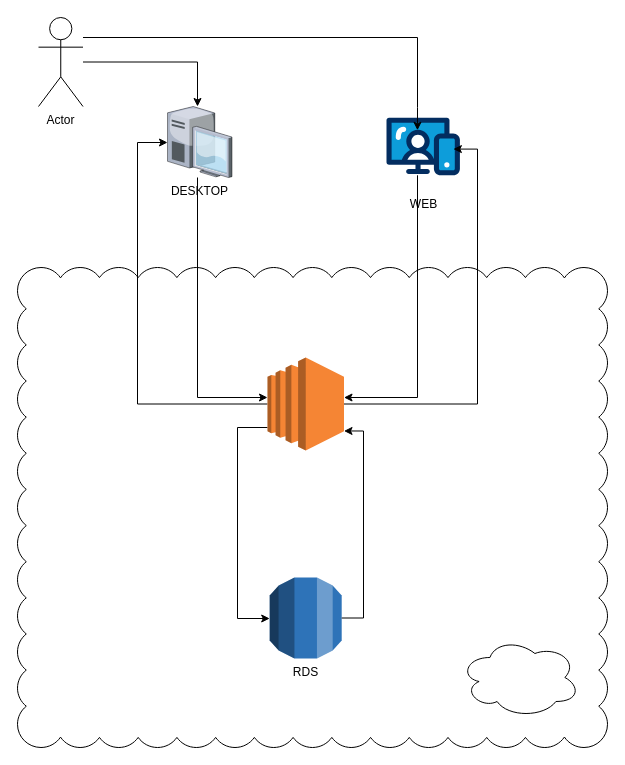
The diagram is 625 pixels wide and 765 high, and some of its shapes have lost their labels. Here are the shapes that lost their labels. From the top down, the box of each, then its label:
(266, 356, 344, 450): EC2
(459, 636, 580, 718): AWS Cloud
